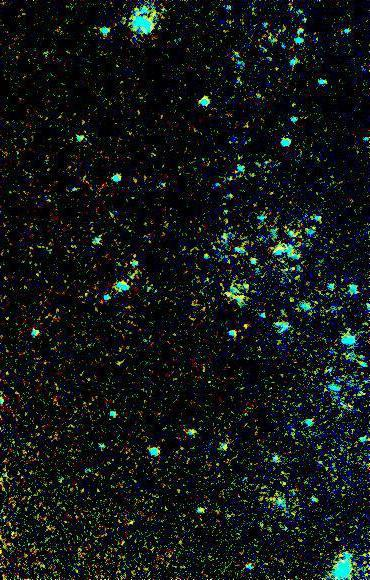star: (233, 310, 263, 340)
